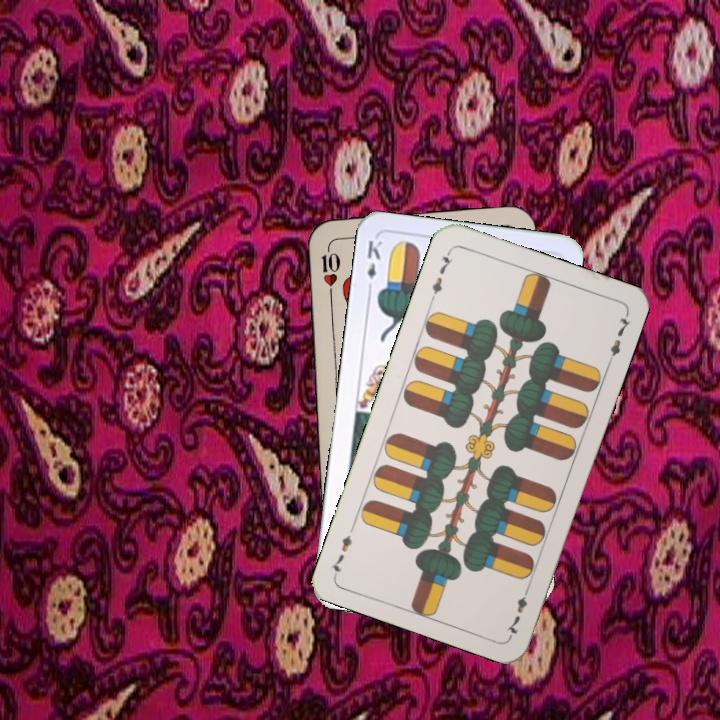E7: (502, 582, 531, 639), (426, 246, 454, 303)
EK: (363, 236, 385, 295)
H10: (317, 241, 343, 300)
